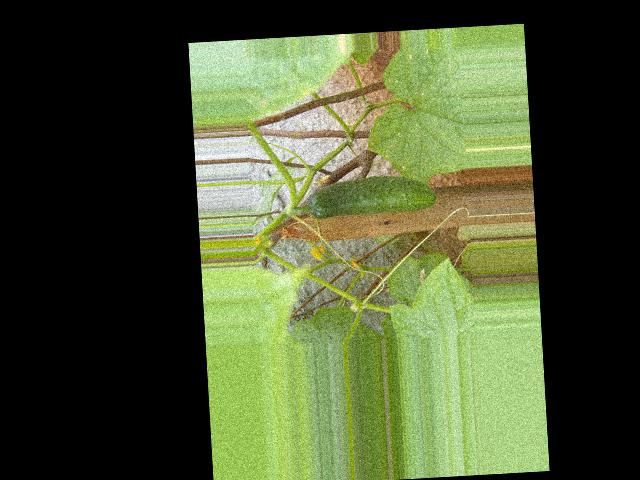cucumber: (306, 172, 437, 220)
